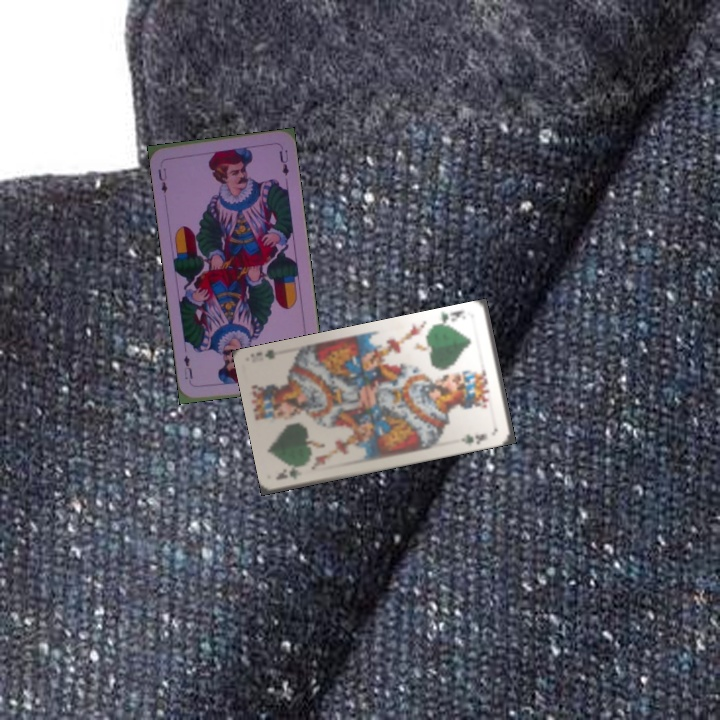EU: (154, 164, 170, 196)
GK: (433, 306, 467, 329), (273, 464, 302, 483)
